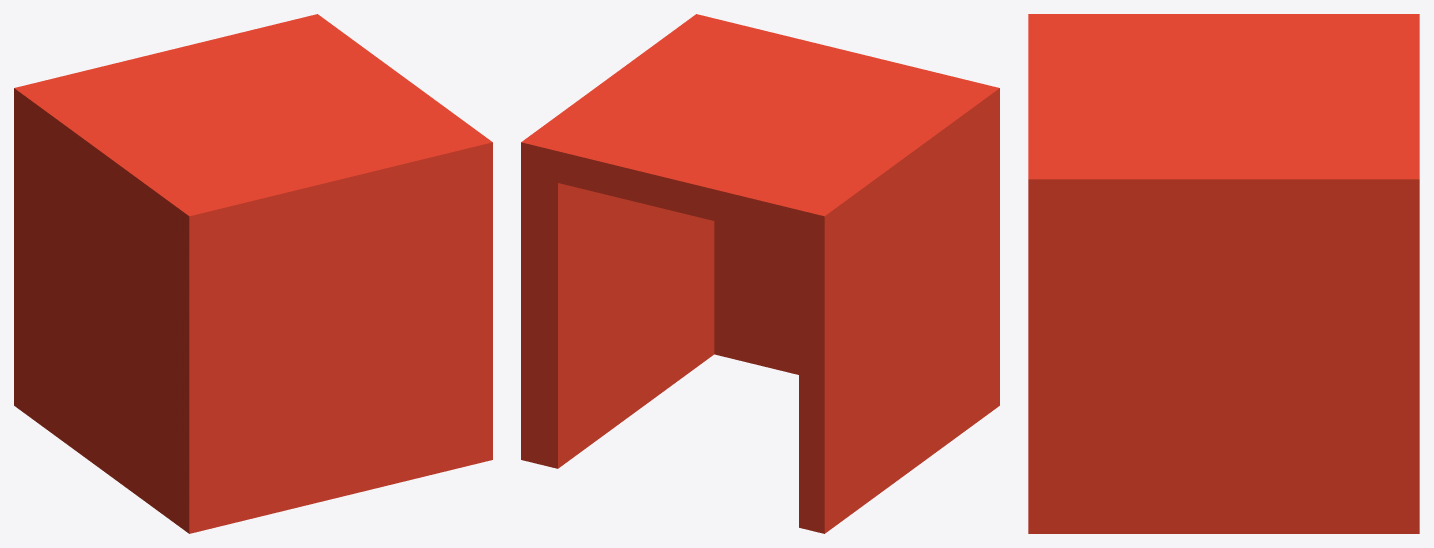
The model's file is falseBox.fbx.
The picture shows the model from 3 angles, left to right: view 1: azimuth 30°, elevation 25°; view 2: azimuth 150°, elevation 25°; view 3: azimuth 270°, elevation 25°; orthographic projection. The views are drawn at different scales.
Visible parts, largest first — view 1: FalseBox; view 2: FalseBox; view 3: FalseBox.
Boxes of the visible parts, box(x1,y1,x2,y2) form: FalseBox: box(14, 14, 492, 533); FalseBox: box(521, 14, 999, 533); FalseBox: box(1028, 14, 1419, 533).
Bounding box in the file's own units: 100 × 100 × 100.
